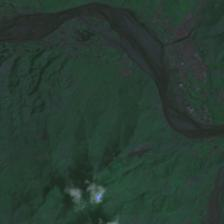landslides: (37, 124, 47, 140), (128, 147, 143, 157)
